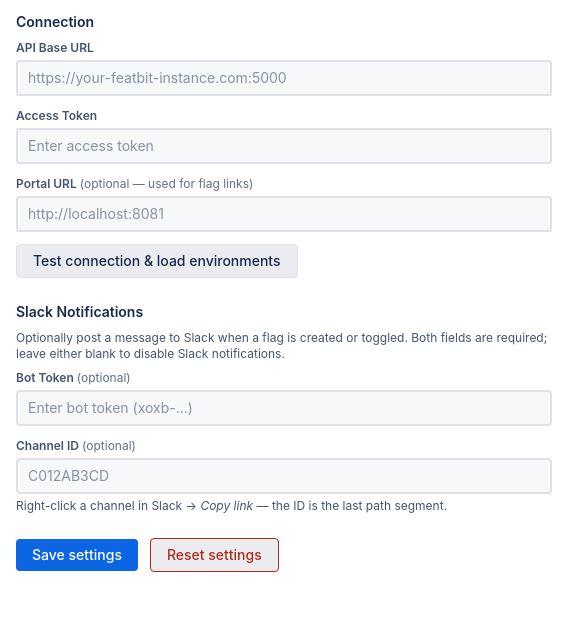
Scenario: Settings › shows an error when Fetch is clicked without an API URL
Click the button "Test connection & load environments": (157, 261) [16, 244, 298, 278]
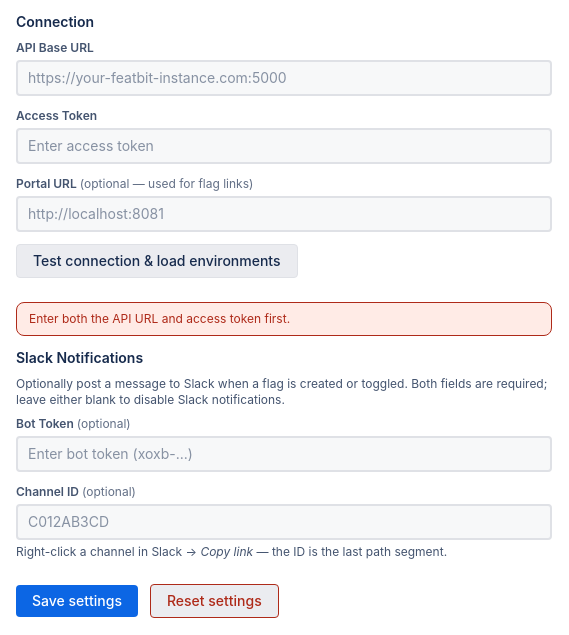
Expected: the message "Enter both the API URL and access token first." is shown, [16, 302, 552, 336]
